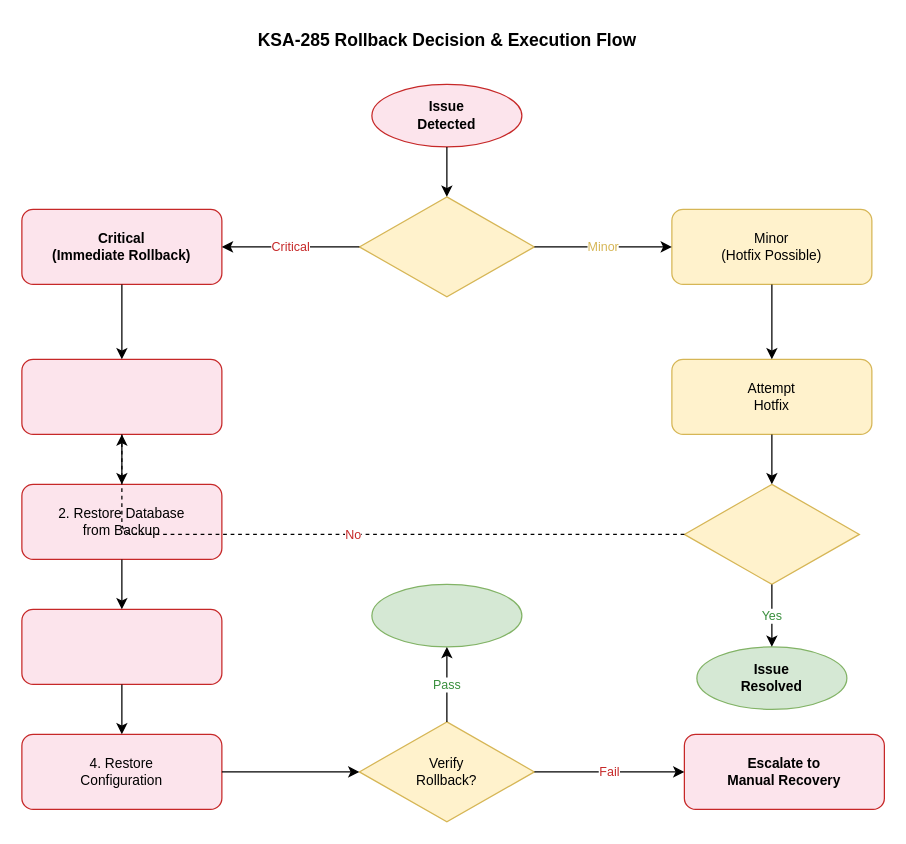
This 906x844 diagram has some shape labels left out. The centre of each missing label's shape, as x and y in pixels:
"1. Stop Backend Service" goes at point (121, 396).
"3. Deploy Previous Version (v1.18.0)" goes at point (121, 646).
"Assess Severity" goes at point (446, 246).
"Hotfix Works?" goes at point (771, 533).
"Rollback Success" goes at point (446, 615).
